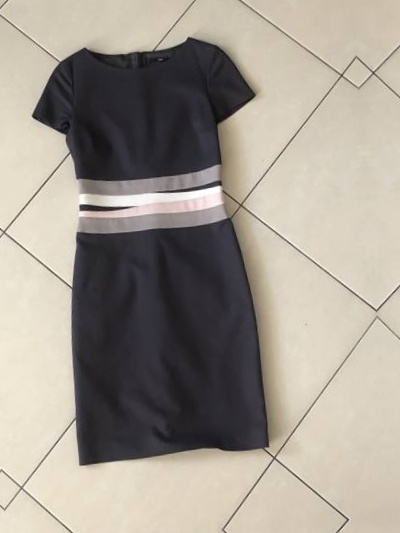Dress: (14, 20, 316, 493)
